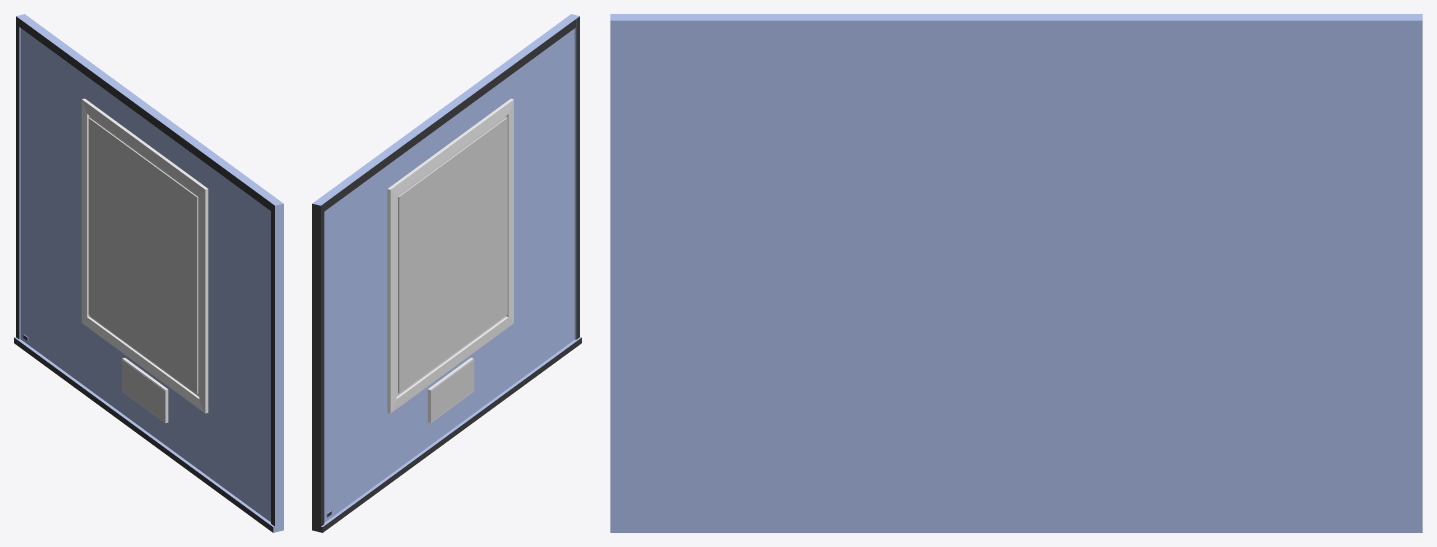
File: wall.glb
3 views of the same model, side by side, from view 1: azimuth 30°, elevation 25°; view 2: azimuth 150°, elevation 25°; view 3: azimuth 270°, elevation 25° (orthographic). The views are drawn at different scales.
Visible parts, largest first — view 1: Cube.001, Painting.001, Canvas.001, label.001, Desc.001; view 2: Cube.001, Painting.001, Canvas.001, label.001, Desc.001; view 3: Cube.001.
Part boxes in pixels (<box>): Cube.001: <box>14,14,283,532</box>; Painting.001: <box>88,118,198,393</box>; Canvas.001: <box>81,98,208,413</box>; label.001: <box>122,359,166,422</box>; Desc.001: <box>122,358,168,423</box>; Cube.001: <box>312,14,581,532</box>; Painting.001: <box>398,117,507,393</box>; Canvas.001: <box>387,98,513,413</box>; label.001: <box>430,359,474,421</box>; Desc.001: <box>427,358,473,423</box>; Cube.001: <box>610,14,1422,532</box>.
Size of the model in its own units: 0.3105 by 8.35 by 12.
